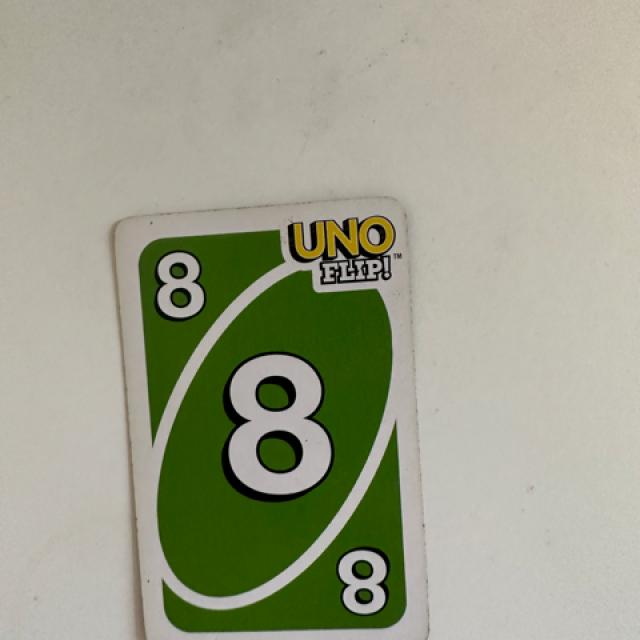lgreen-8: (129, 228, 240, 339)
